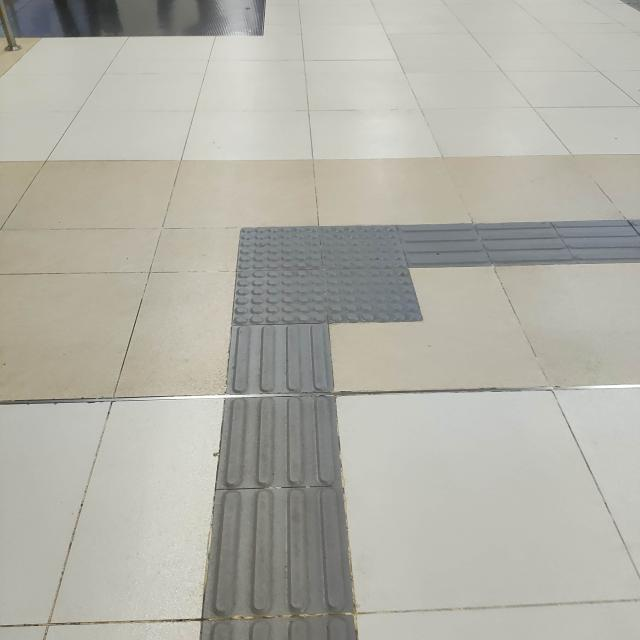kanan: (177, 170, 547, 373)
